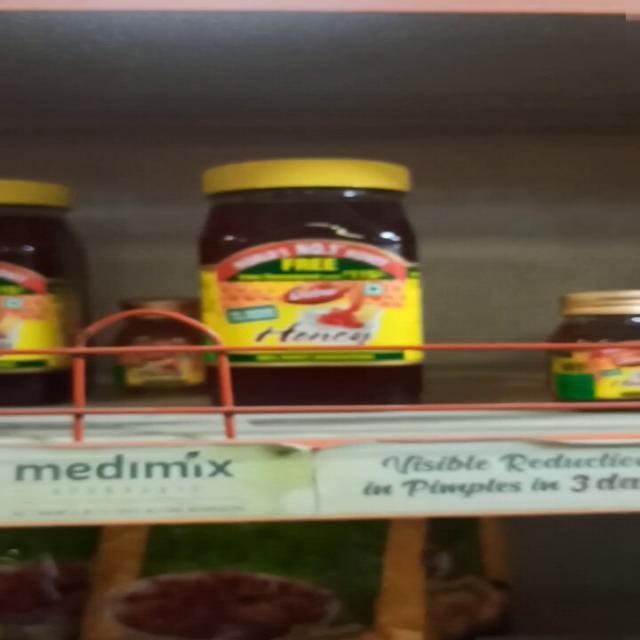Dabur Honey: (195, 158, 438, 412)
